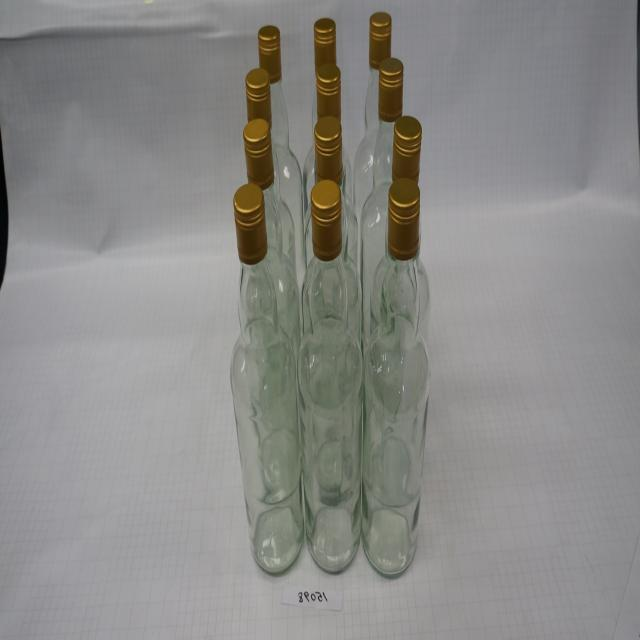glass: (359, 175, 432, 580), (229, 186, 304, 580), (296, 177, 365, 576), (369, 113, 429, 351)
